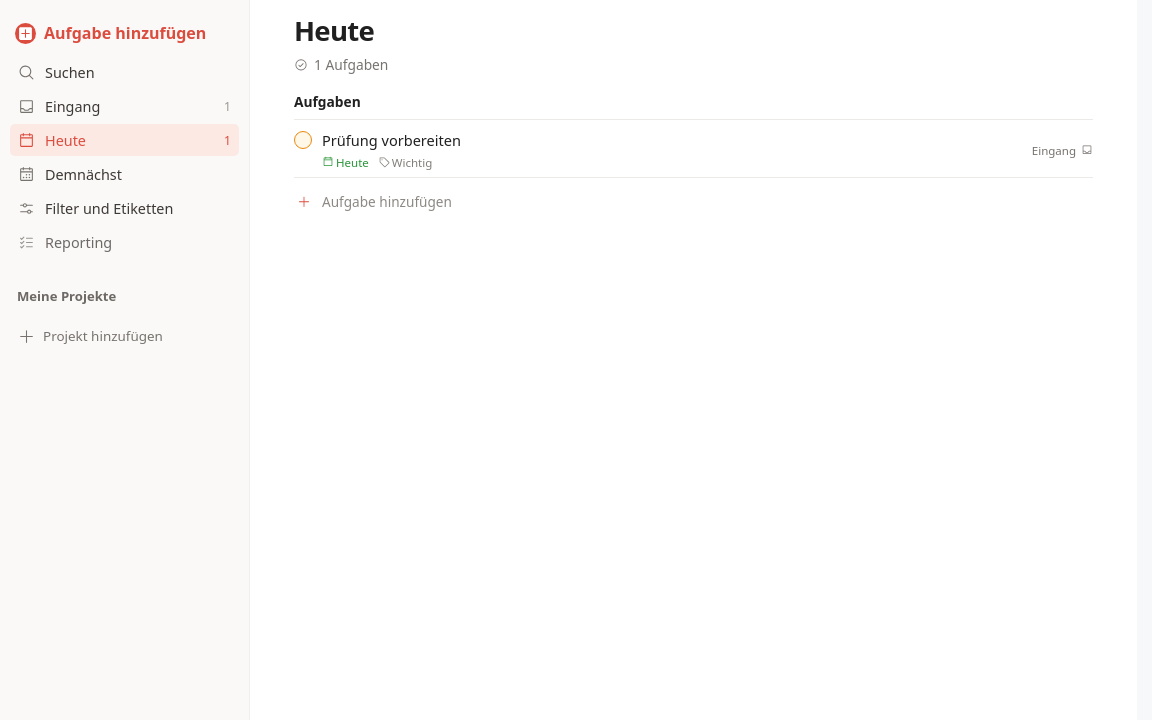
Test: TodosView › persists completion immediately while retaining the completed row for three seconds
Click the button named "Prüfung vorbereiten erledigen" at point(303, 140), box [294,131,312,149]
Wait 2999 ms
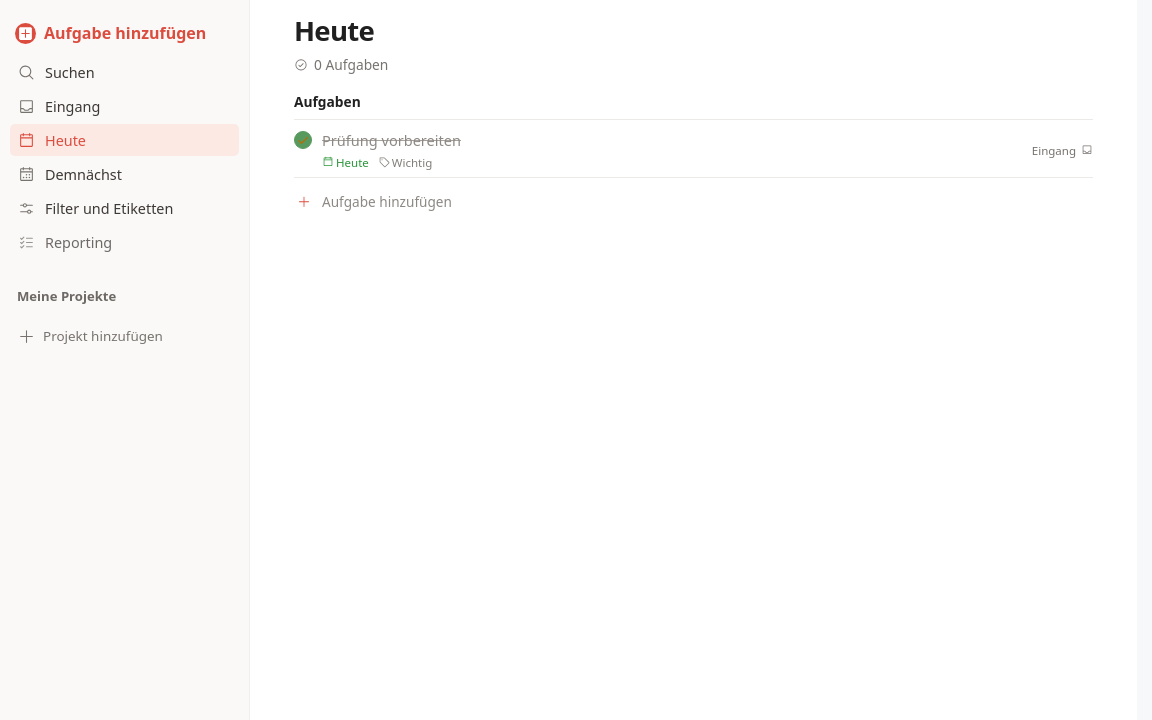
Expected: the text "Prüfung vorbereiten" is shown, [322,130,461,150]
Now the text "0 Aufgaben" is shown, box [294,55,388,74]
